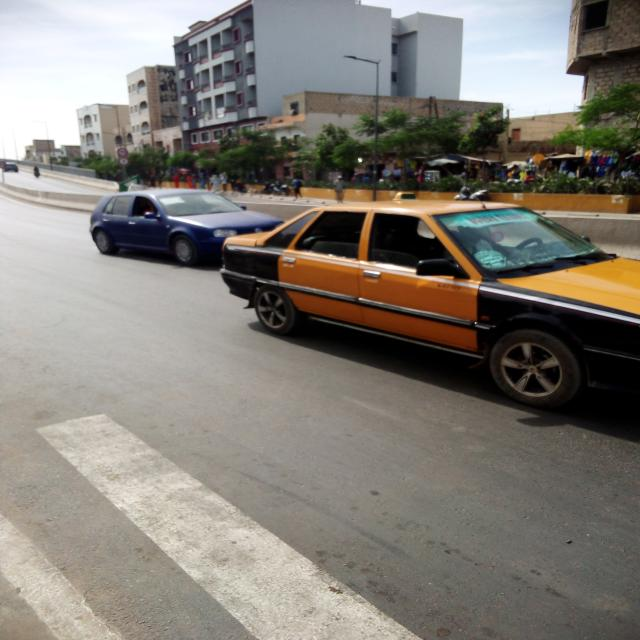moto: (454, 186, 491, 202), (261, 182, 291, 196)
particulier: (91, 190, 283, 266), (4, 165, 19, 174)
taxi: (221, 201, 640, 409)
